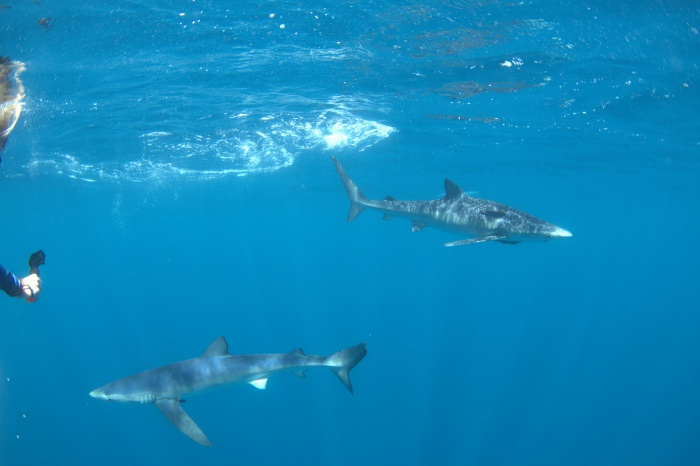Azul: (70, 325, 375, 454), (324, 150, 593, 262)
